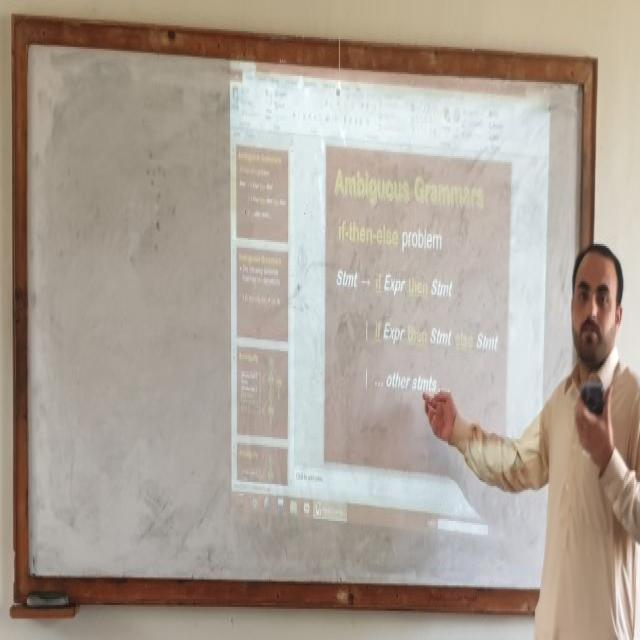Instructor: (537, 217, 633, 640)
Slide: (228, 42, 550, 557)
White-board: (19, 25, 593, 603)
